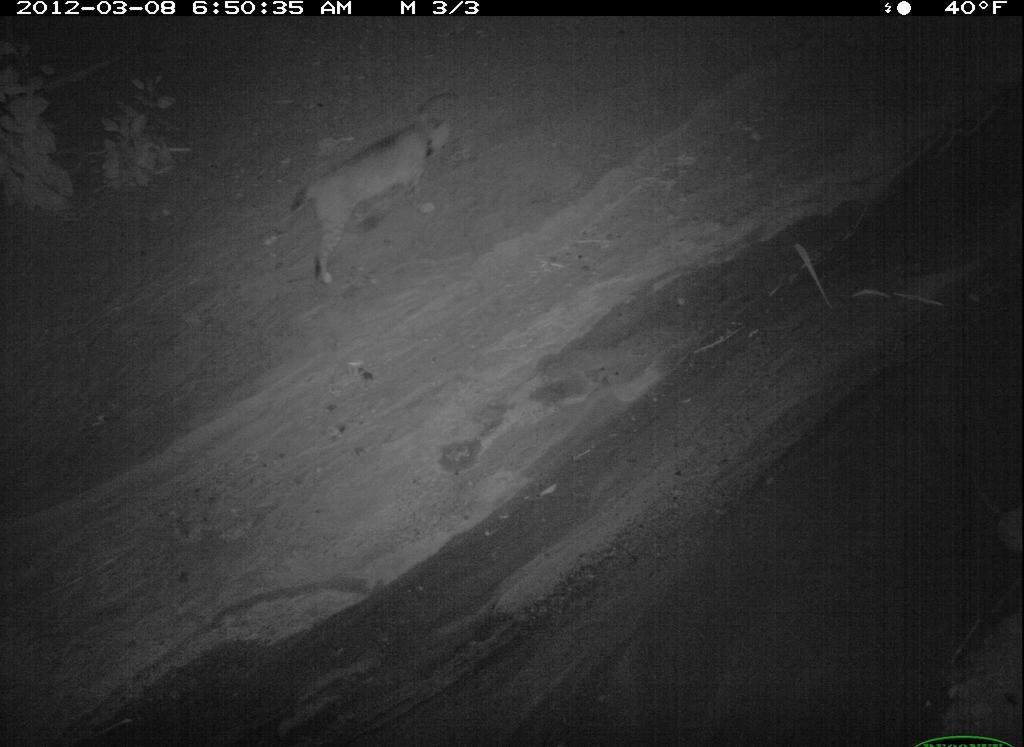bobcat: (568, 208, 920, 579)
